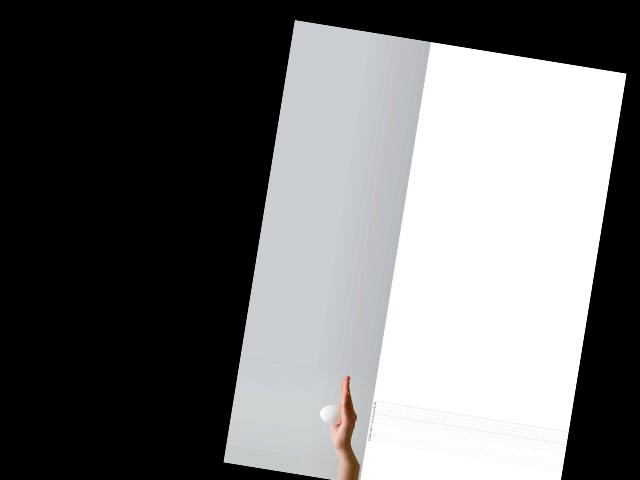egg: (318, 403, 344, 425)
